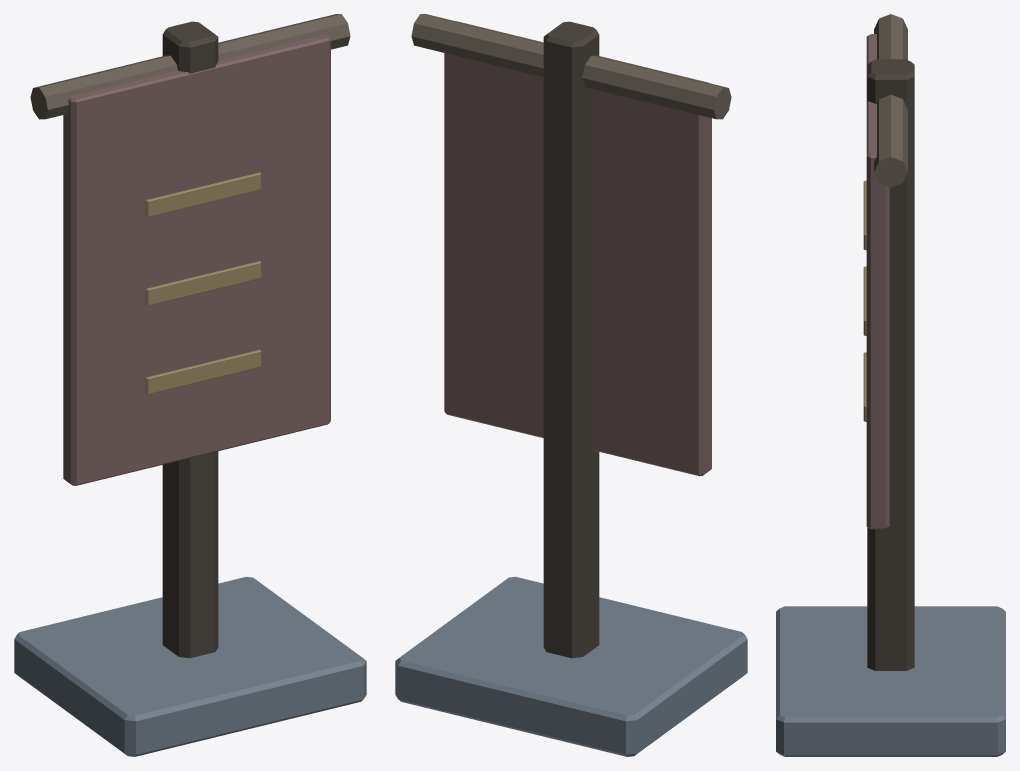
Rendered from prayer-banner.glb.
The picture shows the model from 3 angles, left to right: view 1: azimuth 30°, elevation 25°; view 2: azimuth 150°, elevation 25°; view 3: azimuth 270°, elevation 25°; orthographic projection. The views are drawn at different scales.
Parts seen in each view (by area): view 1: prayer-banner__body; view 2: prayer-banner__body; view 3: prayer-banner__body.
Part boxes in pixels (box(x1,y1,x2,y2)): prayer-banner__body: box(14, 14, 366, 756); prayer-banner__body: box(395, 14, 747, 756); prayer-banner__body: box(776, 14, 1005, 756).
Bounding box in the file's own units: 0.5 × 1.03 × 0.34.
